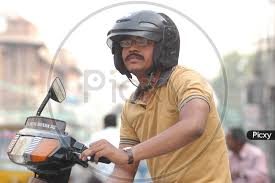com_capacete: (105, 9, 182, 85)
